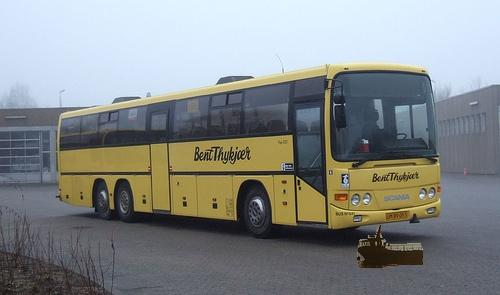tampered: (358, 226, 423, 268)
